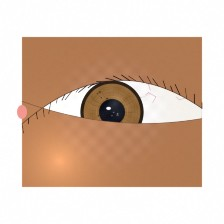pinguecula_lesion: (47, 106, 85, 135)
